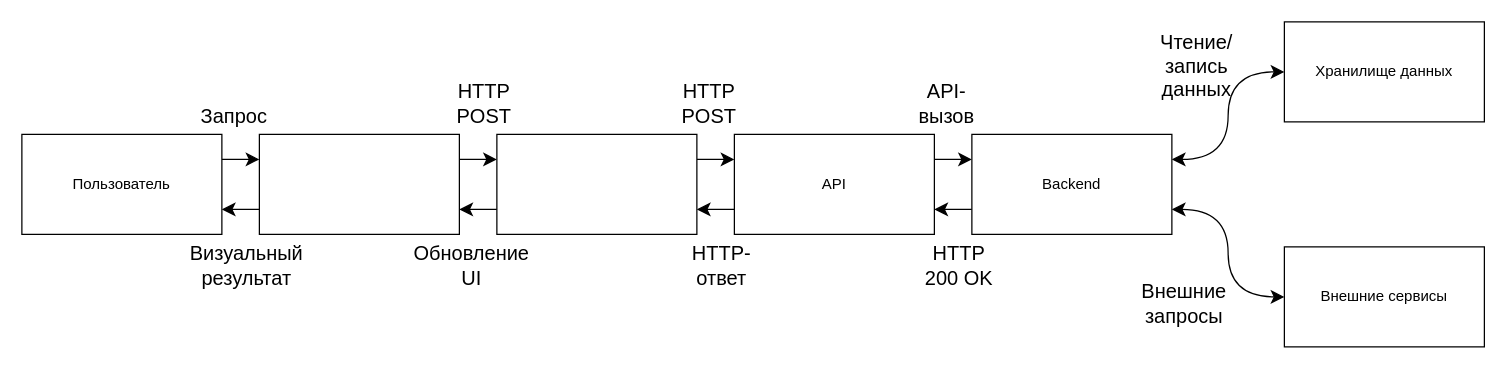
This 1506x369 diagram has some shape labels left out. Each missing label, with the centre of its shape:
"Frontend" goes at pixel 596 183.
"Браузер" goes at pixel 358 183.
